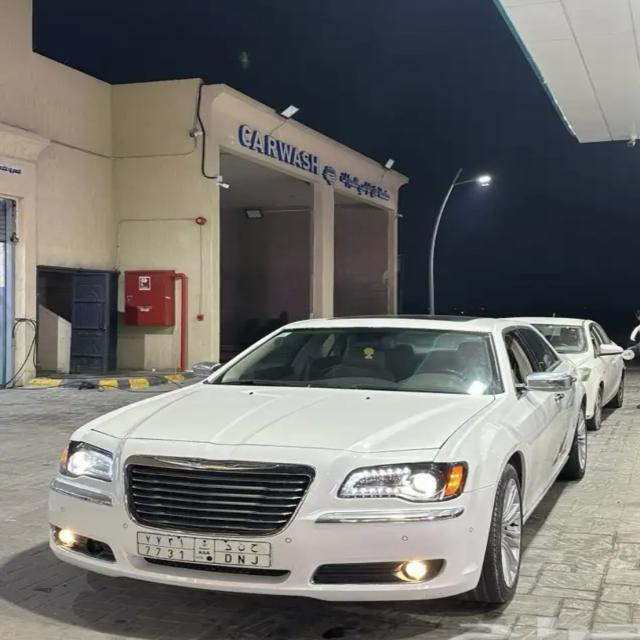license_plate: (138, 530, 272, 570)
